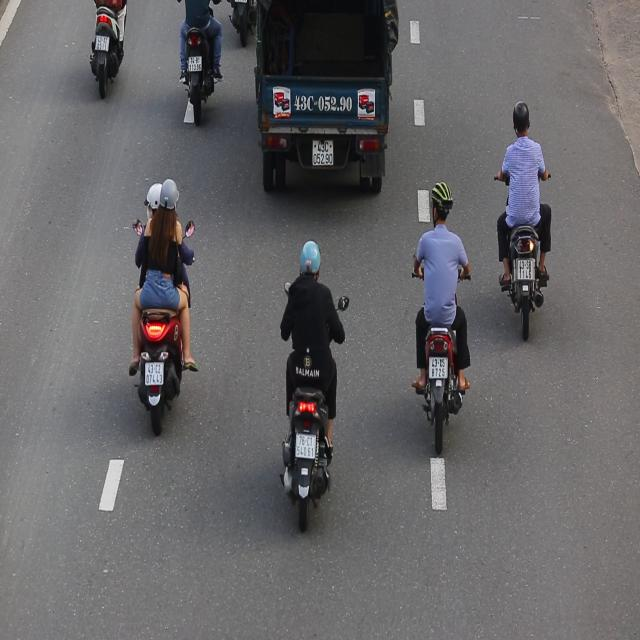motorbike: (275, 233, 351, 533), (127, 174, 200, 439), (408, 177, 474, 460), (491, 98, 554, 344)
